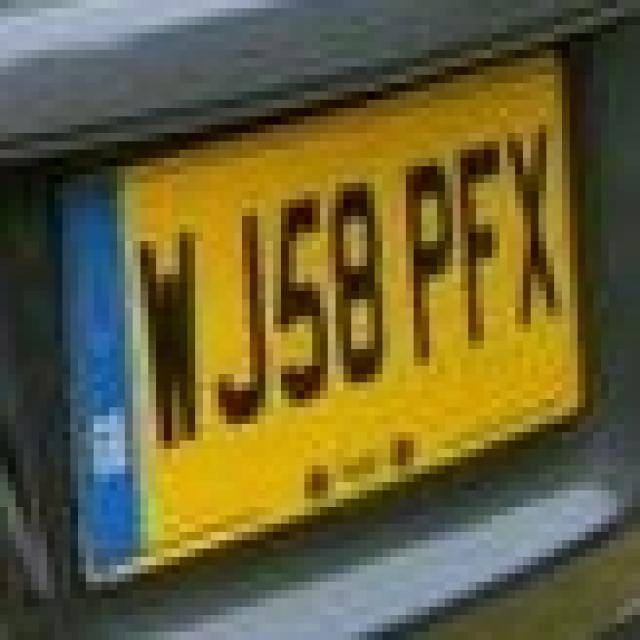LicensePlate: (52, 52, 600, 612)
